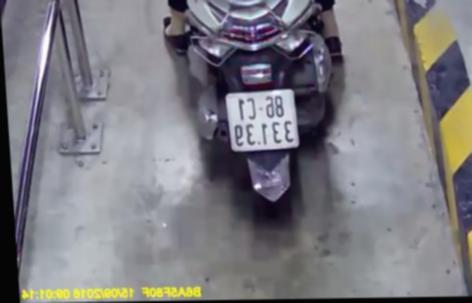License_Plate: (217, 87, 308, 160)
